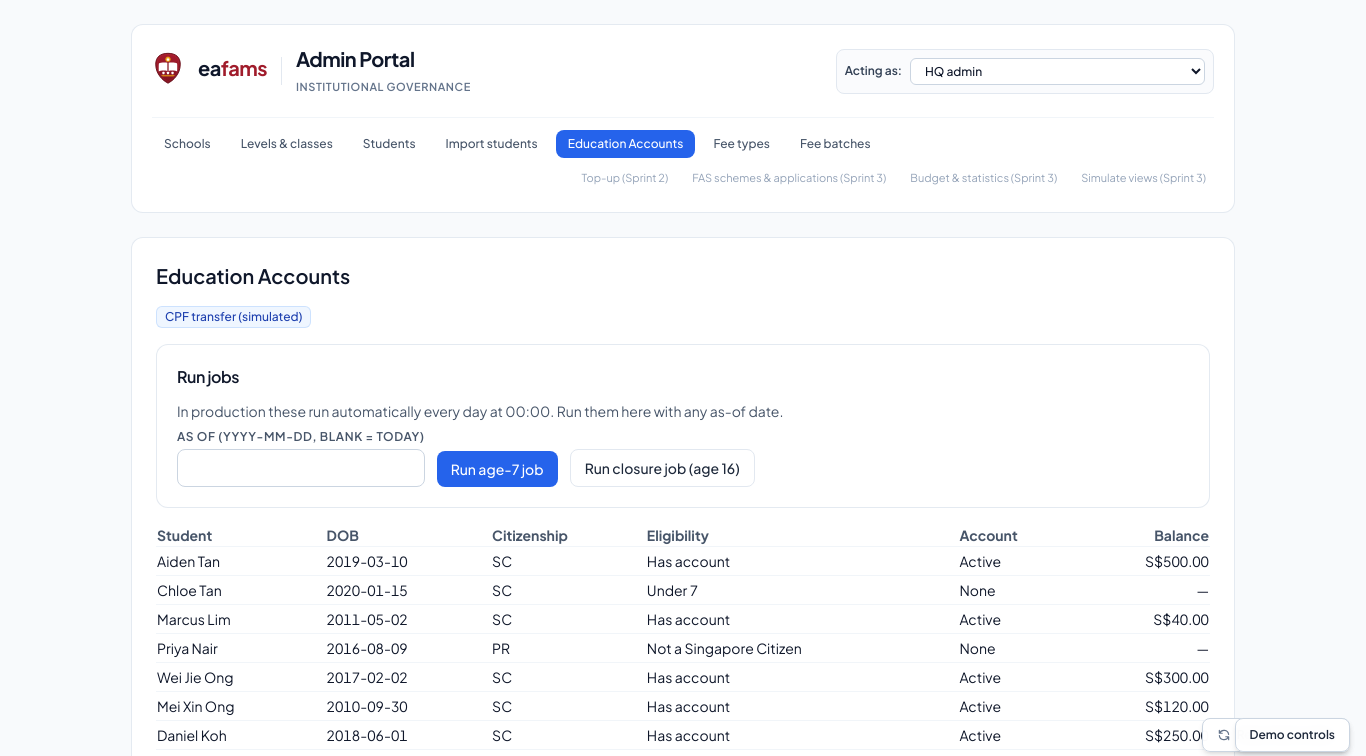
Test: an as-of date in the future makes Chloe eligible
In the field labelled "As of (YYYY-MM-DD, blank = today)": (301, 468) [177,449,425,487], type "2027-01-15"
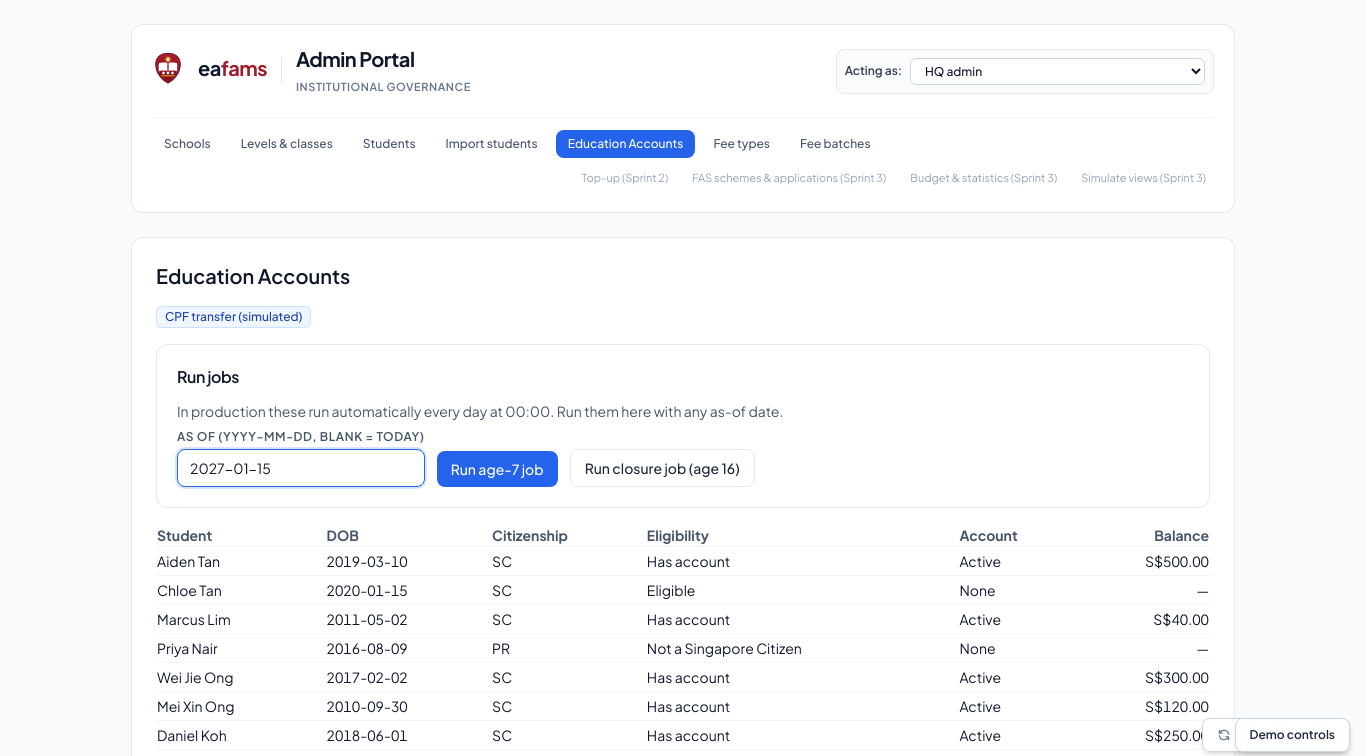
Click the button "Run age-7 job": (497, 469) [437,451,558,487]
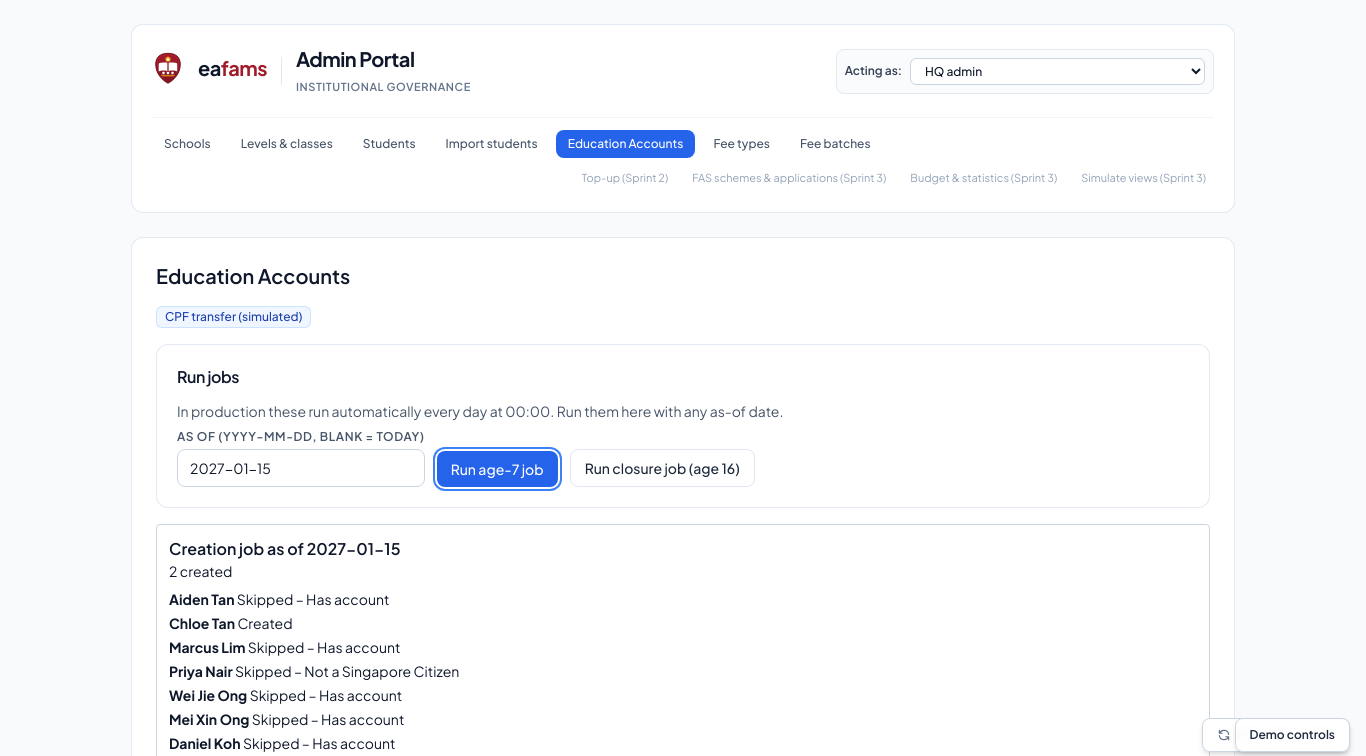
Result: the list item "Chloe Tan Created" is shown at [169,614,292,632]
